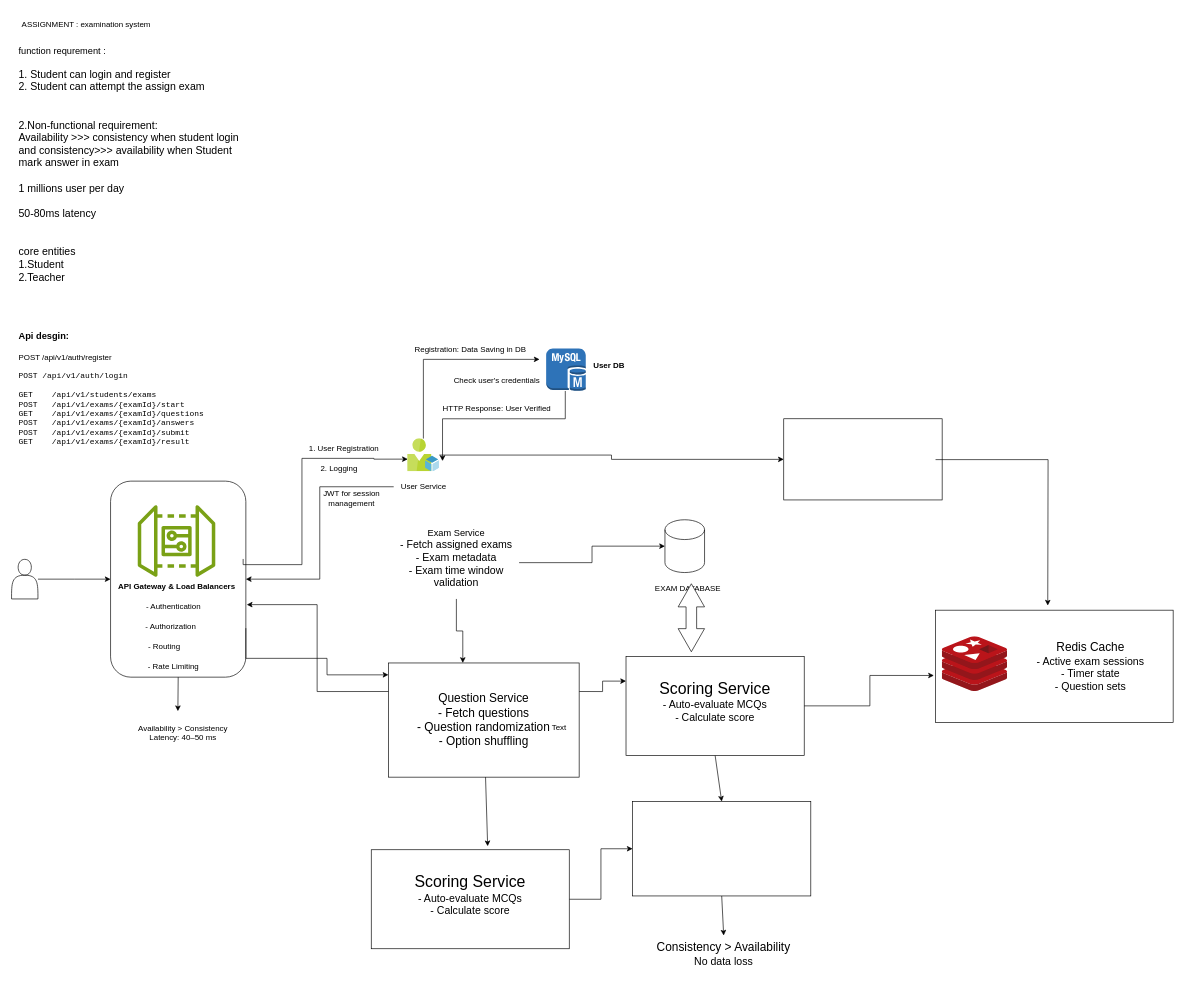
Some shapes in this 1185 by 993 pixel diagram are drawn without their labels. The centre of each missing label's shape, as x and y in pixels:
Audit & Logging Service - Login events - Exam start/end - Submission events: point 721,848
USER CHECK IF THER AN EXAMINATION WINDOW VALID OR NOT WHILE LOGING: point 862,459
